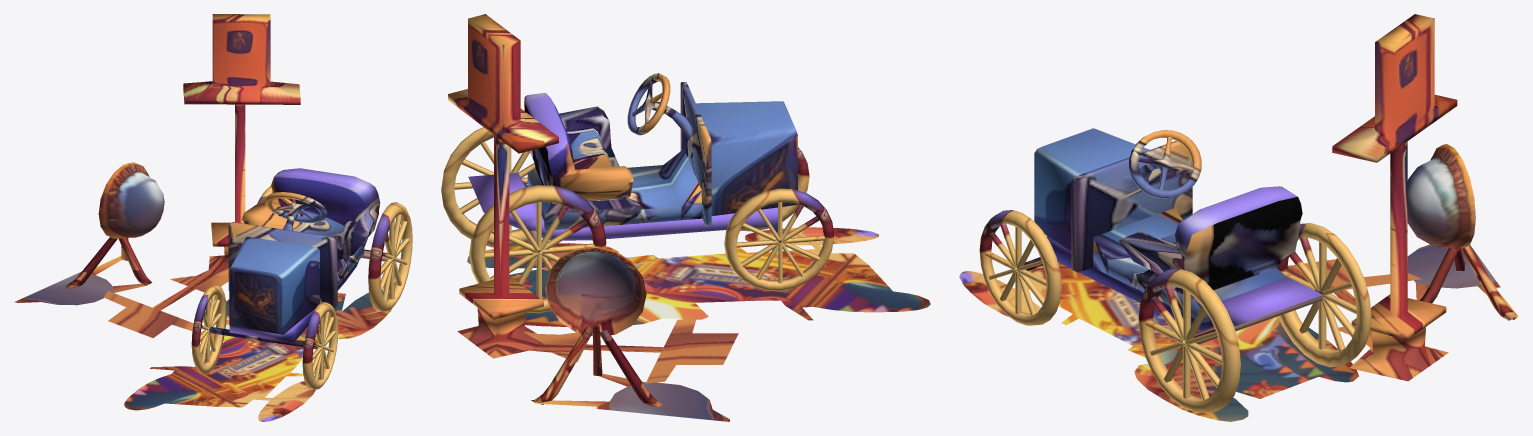
Rendered from stage_01_4.fbx.
3 views of the same model, side by side, from view 1: azimuth 30°, elevation 25°; view 2: azimuth 150°, elevation 25°; view 3: azimuth 270°, elevation 25° (orthographic). The views are drawn at different scales.
Parts seen in each view (by area): view 1: 4_4, 4_5, 4_3, 4_6, 4_2, 4_1; view 2: 4_4, 4_6, 4_5, 4_3, 4_1, 4_2; view 3: 4_4, 4_6, 4_5, 4_3, 4_1, 4_2.
Boxes of the visible parts, x1=… form: 4_4: x1=124, y1=186, x2=412, y2=421; 4_5: x1=228, y1=192, x2=337, y2=334; 4_3: x1=15, y1=162, x2=164, y2=305; 4_6: x1=242, y1=168, x2=380, y2=285; 4_2: x1=183, y1=14, x2=300, y2=104; 4_1: x1=103, y1=104, x2=245, y2=337; 4_4: x1=441, y1=127, x2=930, y2=326; 4_6: x1=524, y1=93, x2=702, y2=230; 4_5: x1=627, y1=73, x2=797, y2=225; 4_3: x1=531, y1=246, x2=729, y2=421; 4_1: x1=457, y1=135, x2=738, y2=383; 4_2: x1=448, y1=14, x2=558, y2=153; 4_4: x1=959, y1=210, x2=1371, y2=421; 4_6: x1=1093, y1=186, x2=1302, y2=322; 4_5: x1=1034, y1=128, x2=1201, y2=272; 4_3: x1=1407, y1=144, x2=1518, y2=320; 4_1: x1=1287, y1=141, x2=1448, y2=381; 4_2: x1=1332, y1=14, x2=1457, y2=162.
Bounding box in the file's own units: 316 × 225 × 337.
